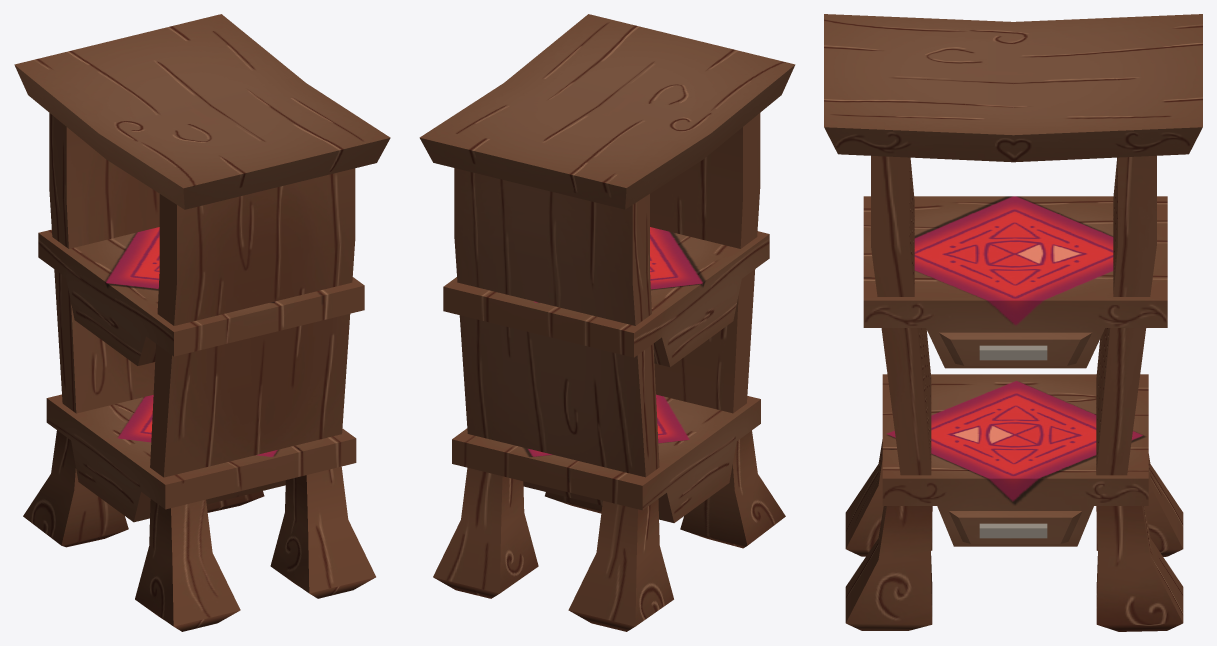
Rendered from PVB export hoog kastje met kleedjes.fbx.
The picture shows the model from 3 angles, left to right: view 1: azimuth 30°, elevation 25°; view 2: azimuth 150°, elevation 25°; view 3: azimuth 270°, elevation 25°; orthographic projection. The views are drawn at different scales.
Parts seen in each view (by area): view 1: zeikant_base_links, top, bovenste_plank_base, onderste_plank_base, zeikant_base_rechts, poot_links_achter, poot_links_voor, poot_rechts_achter; view 2: zeikant_base_rechts, top, bovenste_plank_base, onderste_plank_base, zeikant_base_links, poot_rechts_achter, poot_rechts_voor, poot_links_achter; view 3: top, bovenste_plank_base, onderste_plank_base, zeikant_base_links, zeikant_base_rechts, poot_rechts_voor, poot_links_voor, poot_links_achter, poot_rechts_achter, handvat_boven, handvat_onder.
Boxes of the visible parts, x1,y1,x2,y2 form: zeikant_base_links: (150, 168, 355, 477); top: (14, 14, 390, 209); bovenste_plank_base: (38, 227, 364, 365); onderste_plank_base: (46, 394, 356, 522); zeikant_base_rechts: (49, 113, 159, 413); poot_links_achter: (135, 499, 240, 631); poot_links_voor: (270, 466, 375, 598); poot_rechts_achter: (23, 430, 128, 547); zeikant_base_rechts: (454, 168, 659, 477); top: (419, 14, 795, 209); bovenste_plank_base: (443, 227, 769, 367); onderste_plank_base: (452, 394, 760, 522); zeikant_base_links: (650, 113, 760, 413); poot_rechts_achter: (568, 499, 673, 631); poot_rechts_voor: (433, 467, 538, 598); poot_links_achter: (680, 430, 785, 548); top: (824, 14, 1202, 162); bovenste_plank_base: (863, 196, 1167, 368); onderste_plank_base: (882, 374, 1148, 546); zeikant_base_links: (871, 156, 931, 475); zeikant_base_rechts: (1096, 155, 1156, 475); poot_rechts_voor: (1096, 506, 1183, 631); poot_links_voor: (845, 506, 932, 630); poot_links_achter: (845, 439, 932, 556); poot_rechts_achter: (1096, 454, 1183, 556); handvat_boven: (979, 345, 1047, 360); handvat_onder: (979, 523, 1047, 538).
Size of the model in its own units: 1.41 by 2.87 by 1.92.
Materials: 1 (1 with a texture image).
